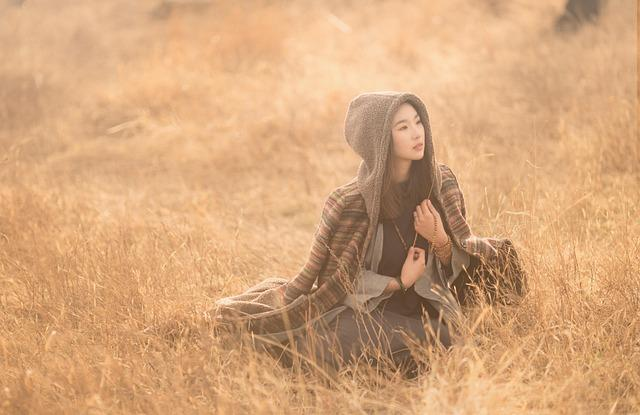Non_Gorille: (201, 42, 578, 415)
